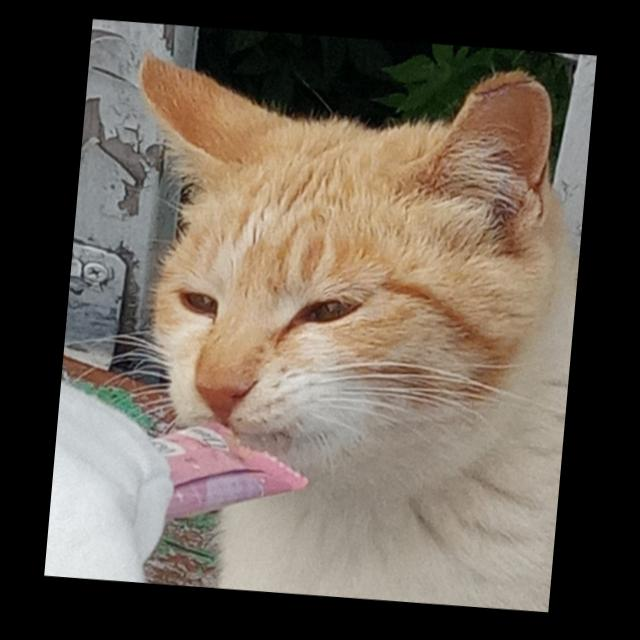animals: (69, 15, 580, 527)
